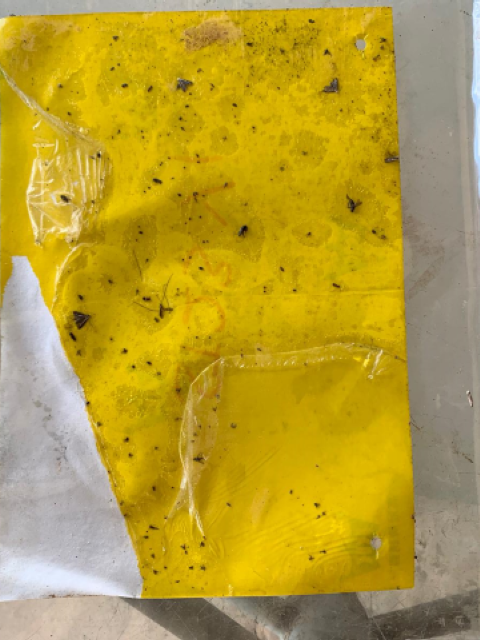DBM: (69, 308, 94, 332), (321, 77, 340, 94), (176, 78, 195, 93), (382, 151, 399, 167)
